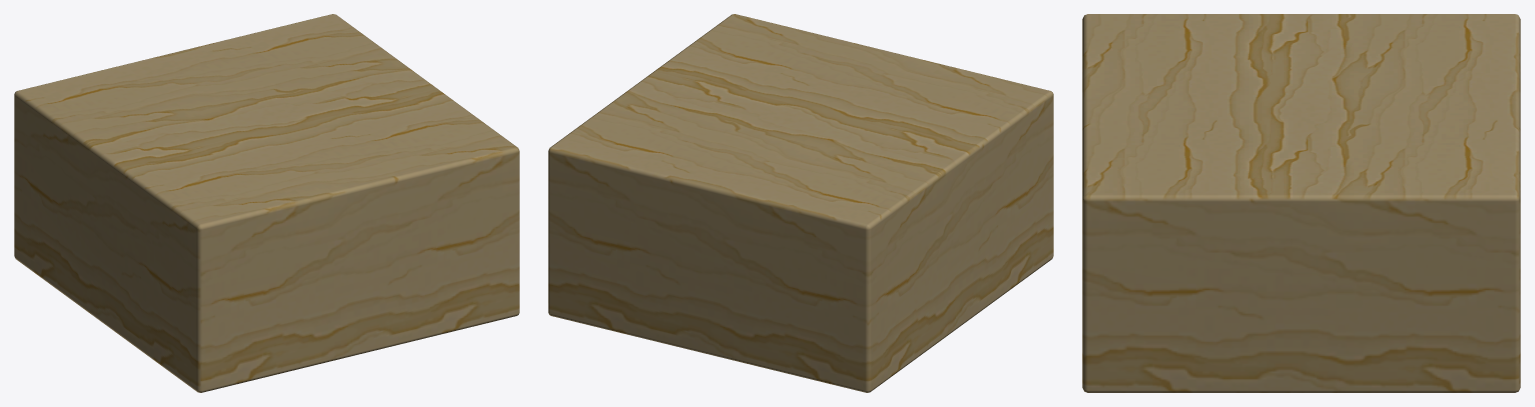
File: SM_Platform_4m_02_B.glb
3 views of the same model, side by side, from view 1: azimuth 30°, elevation 25°; view 2: azimuth 150°, elevation 25°; view 3: azimuth 270°, elevation 25° (orthographic). The views are drawn at different scales.
Visible parts, largest first — view 1: SM_Platform_4m_02_B; view 2: SM_Platform_4m_02_B; view 3: SM_Platform_4m_02_B.
Part boxes in pixels (x1,y1,x2,y2): SM_Platform_4m_02_B: [14, 14, 519, 392]; SM_Platform_4m_02_B: [548, 14, 1053, 392]; SM_Platform_4m_02_B: [1082, 14, 1520, 392].
Bounding box in the file's own units: 4 × 2 × 4.
Materials: 1 (1 with a texture image).
